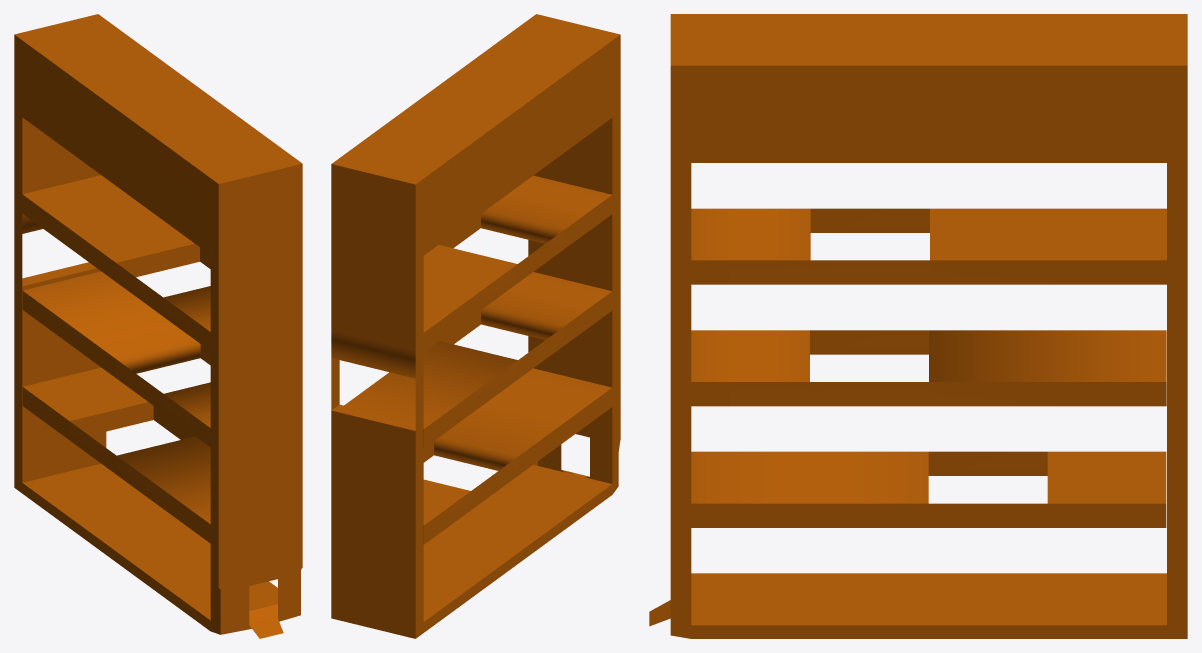
Rendered from Armario_3.fbx.
3 renders of one model, left to right at view 1: azimuth 30°, elevation 25°; view 2: azimuth 150°, elevation 25°; view 3: azimuth 270°, elevation 25°, orthographic. The views are drawn at different scales.
Visible parts, largest first — view 1: Cube; view 2: Cube; view 3: Cube.
Boxes of the visible parts, x1,y1,x2,y2 form: Cube: (14,14,302,638); Cube: (331,14,620,638); Cube: (649,14,1187,638).
Size of the model in its own units: 8819 by 45894 by 38717.
